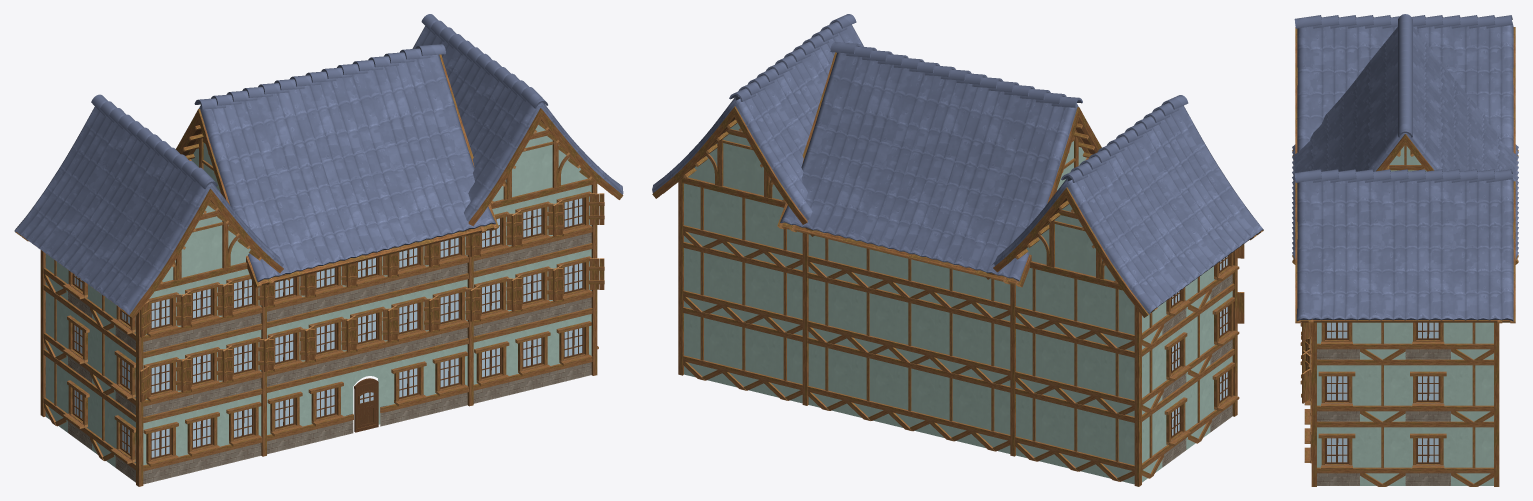
File: hospital.glb
3 renders of one model, left to right at view 1: azimuth 30°, elevation 25°; view 2: azimuth 150°, elevation 25°; view 3: azimuth 270°, elevation 25°, orthographic. The views are drawn at different scales.
Parts seen in each view (by area): view 1: Roof_RoundTiles_6x8, Wall_Plaster_Window_Wide_Flat, Window_Wide_Flat1, Roof_Front_Brick6; view 2: Wall_Plaster_Window_Wide_Flat, Roof_RoundTiles_6x8, Window_Wide_Flat1, Roof_Front_Brick6; view 3: Roof_RoundTiles_6x8, Wall_Plaster_Window_Wide_Flat, Window_Wide_Flat1, Roof_Front_Brick6.
Boxes of the visible parts, <box> form: Roof_RoundTiles_6x8: <box>14,14,623,314</box>; Wall_Plaster_Window_Wide_Flat: <box>14,54,623,484</box>; Window_Wide_Flat1: <box>40,121,598,486</box>; Roof_Front_Brick6: <box>162,125,587,282</box>; Wall_Plaster_Window_Wide_Flat: <box>652,52,1263,484</box>; Roof_RoundTiles_6x8: <box>652,14,1263,314</box>; Window_Wide_Flat1: <box>678,119,1239,486</box>; Roof_Front_Brick6: <box>688,123,1115,280</box>; Roof_RoundTiles_6x8: <box>1292,14,1518,321</box>; Wall_Plaster_Window_Wide_Flat: <box>1292,27,1518,486</box>; Window_Wide_Flat1: <box>1304,144,1499,486</box>; Roof_Front_Brick6: <box>1389,146,1426,171</box>.
Bounding box in the file's own units: 24.25 × 15 × 9.95.
Materials: 6 (5 with a texture image).
